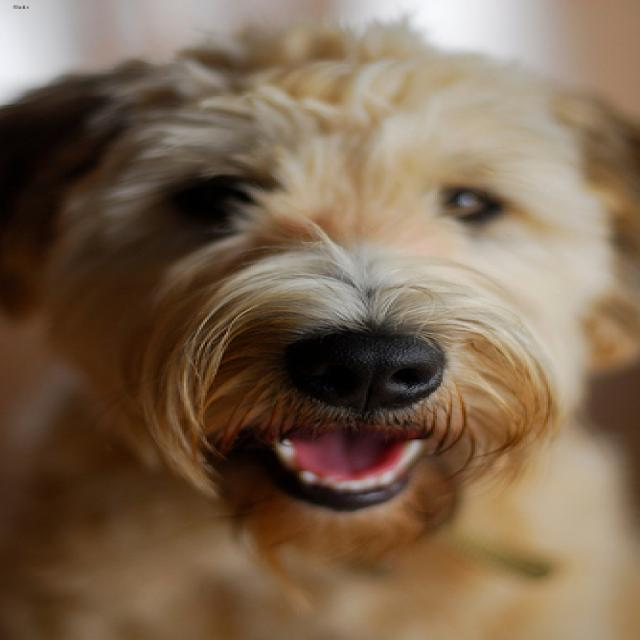dog-wheaten_terrier: (2, 9, 636, 637)
